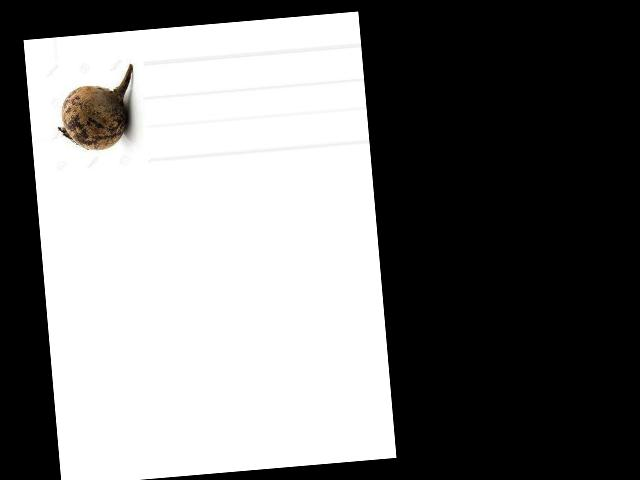beet: (53, 64, 139, 153)
